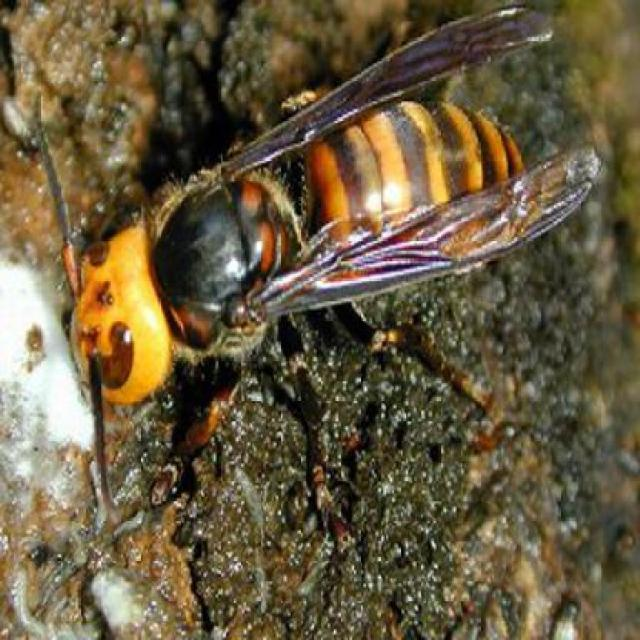Wasp: (54, 0, 592, 458)
